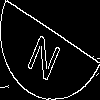N: (25, 25, 66, 83)
